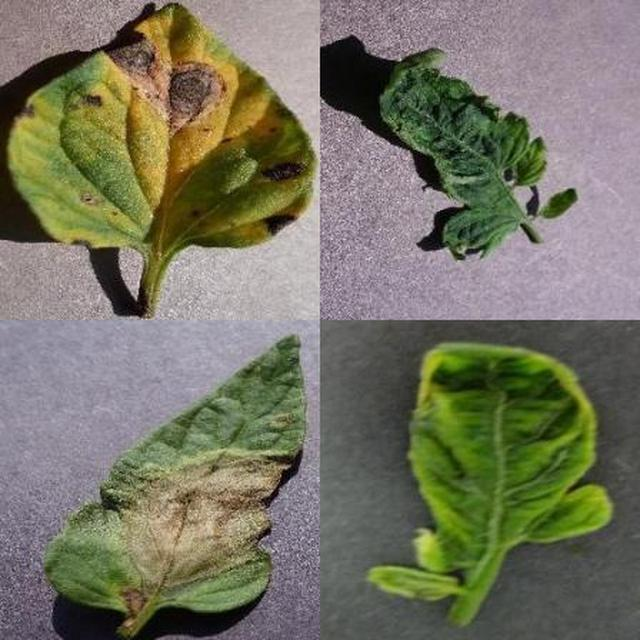Early Blight Leaf: (229, 181, 640, 640)
